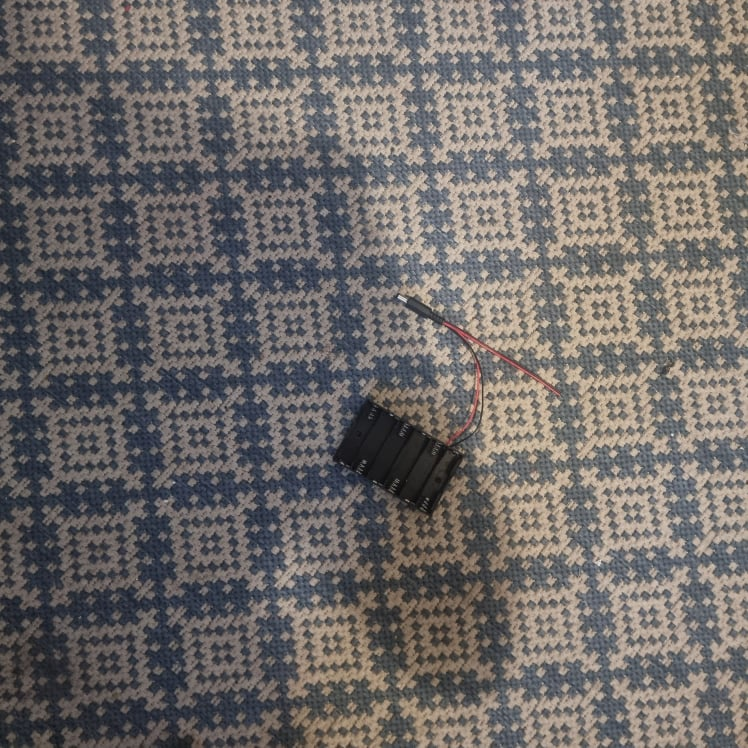BATTERY BOX: (331, 400, 464, 518)
